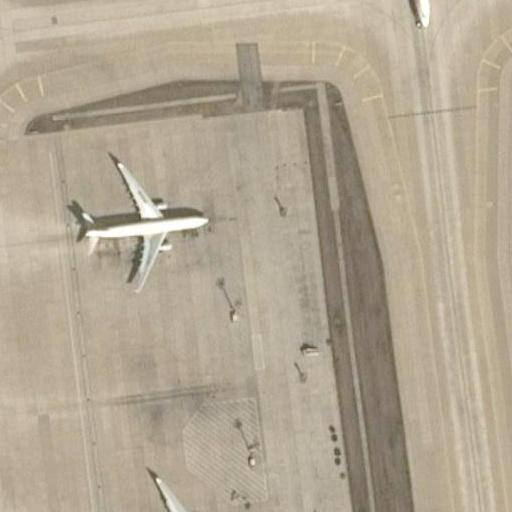Aircraft: (67, 149, 218, 294), (102, 466, 248, 512), (318, 0, 482, 34)
